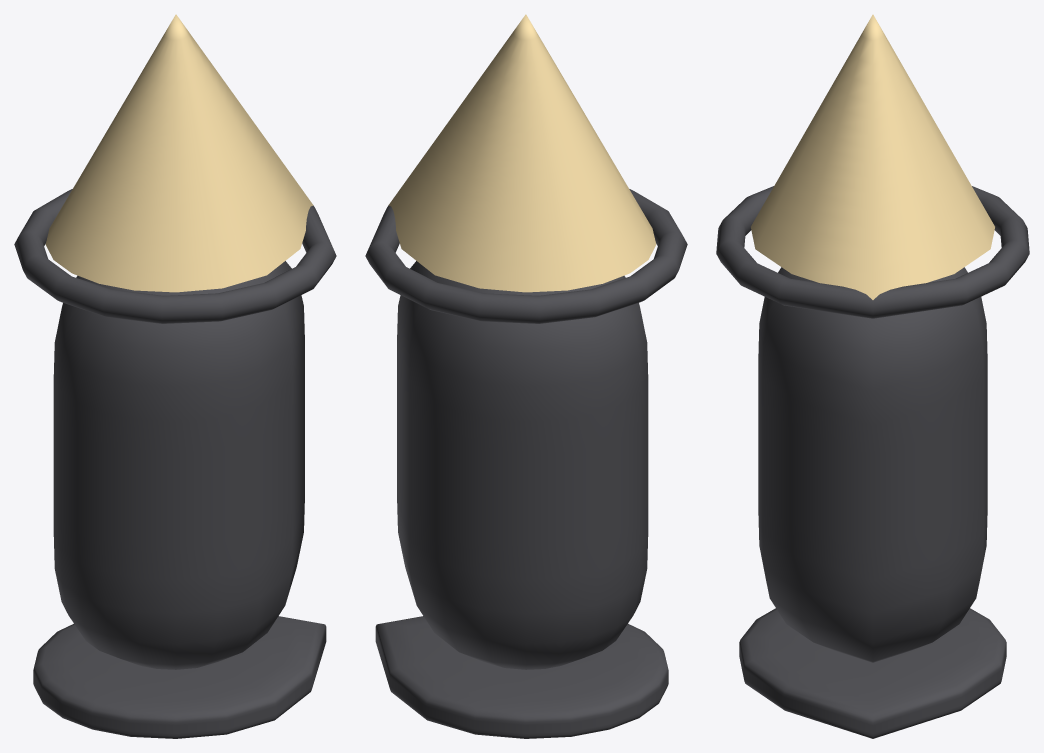
Rendered from garden_lantern_asset.glb.
3 renders of one model, left to right at view 1: azimuth 30°, elevation 25°; view 2: azimuth 150°, elevation 25°; view 3: azimuth 270°, elevation 25°, orthographic. The views are drawn at different scales.
Parts seen in each view (by area): view 1: frame_body, shade, base, frame_collar; view 2: frame_body, shade, base, frame_collar; view 3: frame_body, shade, base, frame_collar.
Part boxes in pixels (x1,y1,x2,y2): frame_body: (53, 261, 304, 669); shade: (45, 14, 313, 292); base: (33, 616, 326, 738); frame_collar: (14, 189, 336, 323); frame_body: (397, 261, 648, 669); shade: (388, 14, 656, 292); base: (375, 616, 668, 738); frame_collar: (365, 189, 687, 323); frame_body: (758, 267, 987, 662); shade: (751, 14, 994, 299); base: (739, 608, 1006, 738); frame_collar: (716, 186, 1029, 318).
Size of the model in its own units: 0.6703 by 1.5 by 0.6445.
